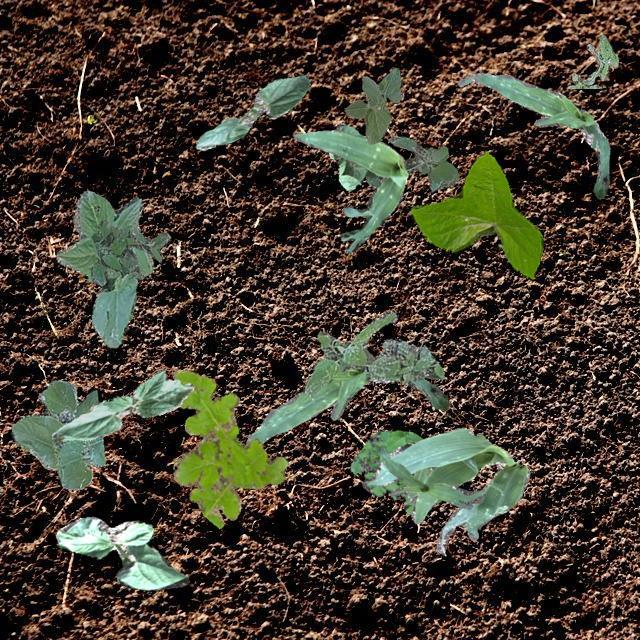crop: (366, 426, 528, 554), (456, 72, 610, 198), (408, 150, 542, 278), (244, 364, 448, 444), (56, 190, 152, 346), (292, 130, 408, 250), (10, 378, 104, 488), (51, 368, 192, 441), (54, 516, 188, 590), (196, 74, 310, 150), (376, 446, 486, 508), (344, 66, 402, 142), (328, 122, 378, 188)
weed: (172, 368, 288, 528), (302, 310, 444, 394), (348, 429, 422, 514), (90, 218, 170, 284), (366, 136, 458, 190), (566, 34, 618, 88)
